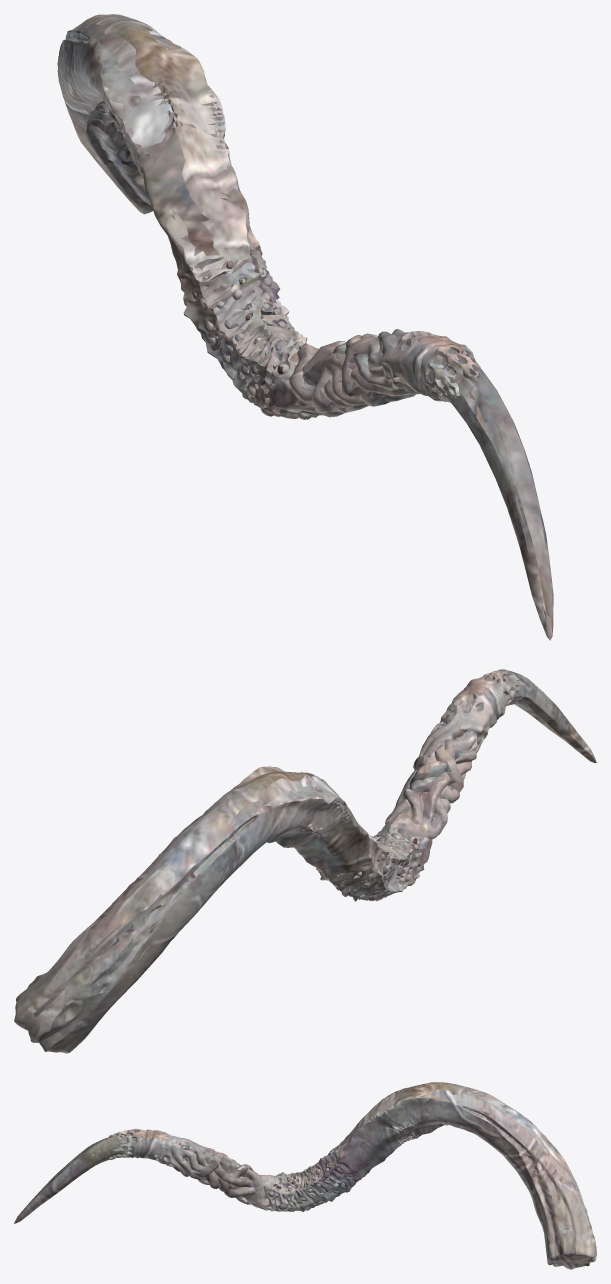
Rendered from sm0666_qliphothl19parts_tentacleb.fbx.
The picture shows the model from 3 angles, top to bottom: view 1: azimuth 30°, elevation 25°; view 2: azimuth 150°, elevation 25°; view 3: azimuth 270°, elevation 25°; orthographic projection. The views are drawn at different scales.
Parts seen in each view (by area): view 1: LOD_1_Group_0_Sub_1__sm0666_qliphothl19parts_TentacleB_A_Mat; view 2: LOD_1_Group_0_Sub_1__sm0666_qliphothl19parts_TentacleB_A_Mat; view 3: LOD_1_Group_0_Sub_1__sm0666_qliphothl19parts_TentacleB_A_Mat.
Boxes of the visible parts, bbox=[...] form: LOD_1_Group_0_Sub_1__sm0666_qliphothl19parts_TentacleB_A_Mat: bbox=[57, 14, 553, 640]; LOD_1_Group_0_Sub_1__sm0666_qliphothl19parts_TentacleB_A_Mat: bbox=[14, 669, 596, 1053]; LOD_1_Group_0_Sub_1__sm0666_qliphothl19parts_TentacleB_A_Mat: bbox=[14, 1082, 596, 1269].
Bounding box in the file's own units: 5785 × 6596 × 22802.
